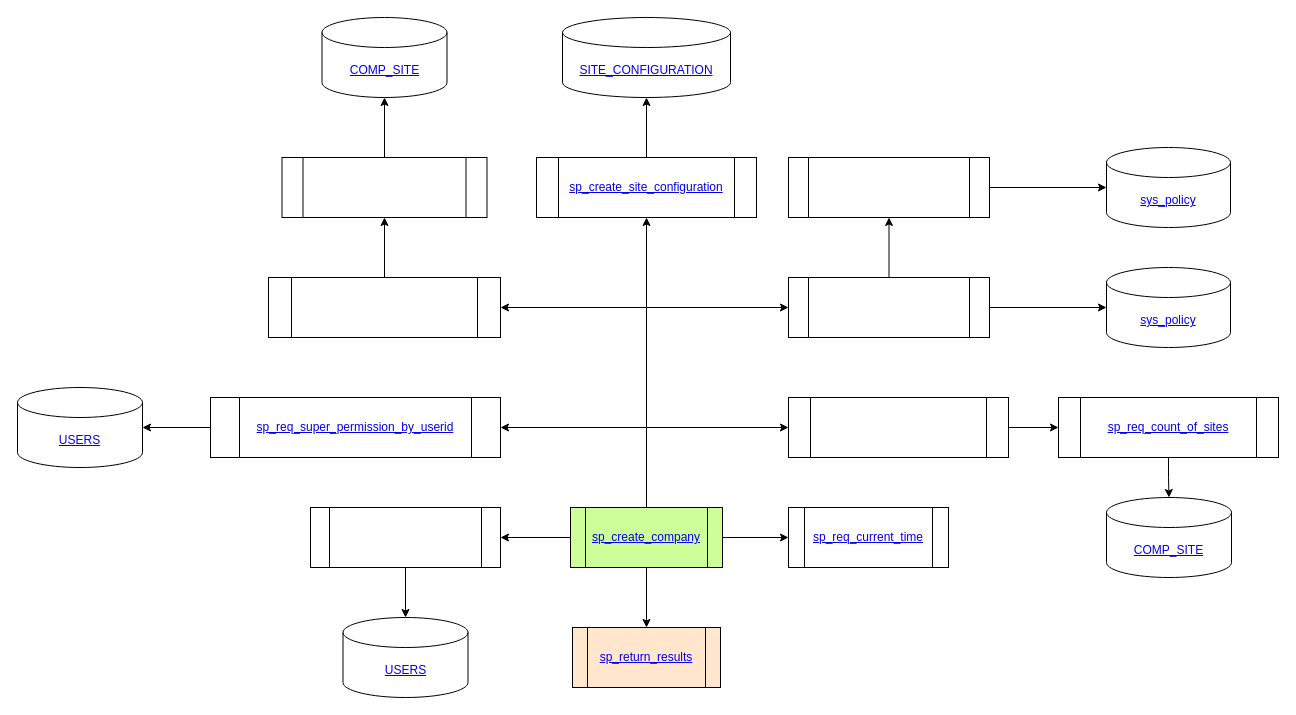
The diagram is 1296 pixels wide and 715 high, and some of its shapes have lost their labels. Here are the shapes that lost their labels. From the top down, the centre of each, then its label:
At pixel 384 187: "sp_req_comp_site_max_id".
At pixel 889 187: "sp_req_policy_exists".
At pixel 384 307: "sp_create_site_without_handler".
At pixel 889 307: "sp_req_policy_direction".
At pixel 898 427: "sp_req_whether_site_is_open".
At pixel 405 537: "sp_req_user_exists_by_id".
